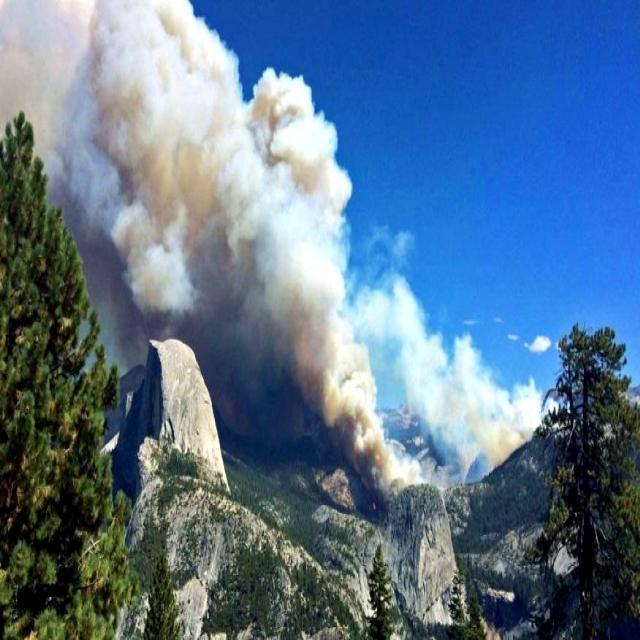Smoke: (6, 3, 421, 508), (351, 279, 552, 474)
